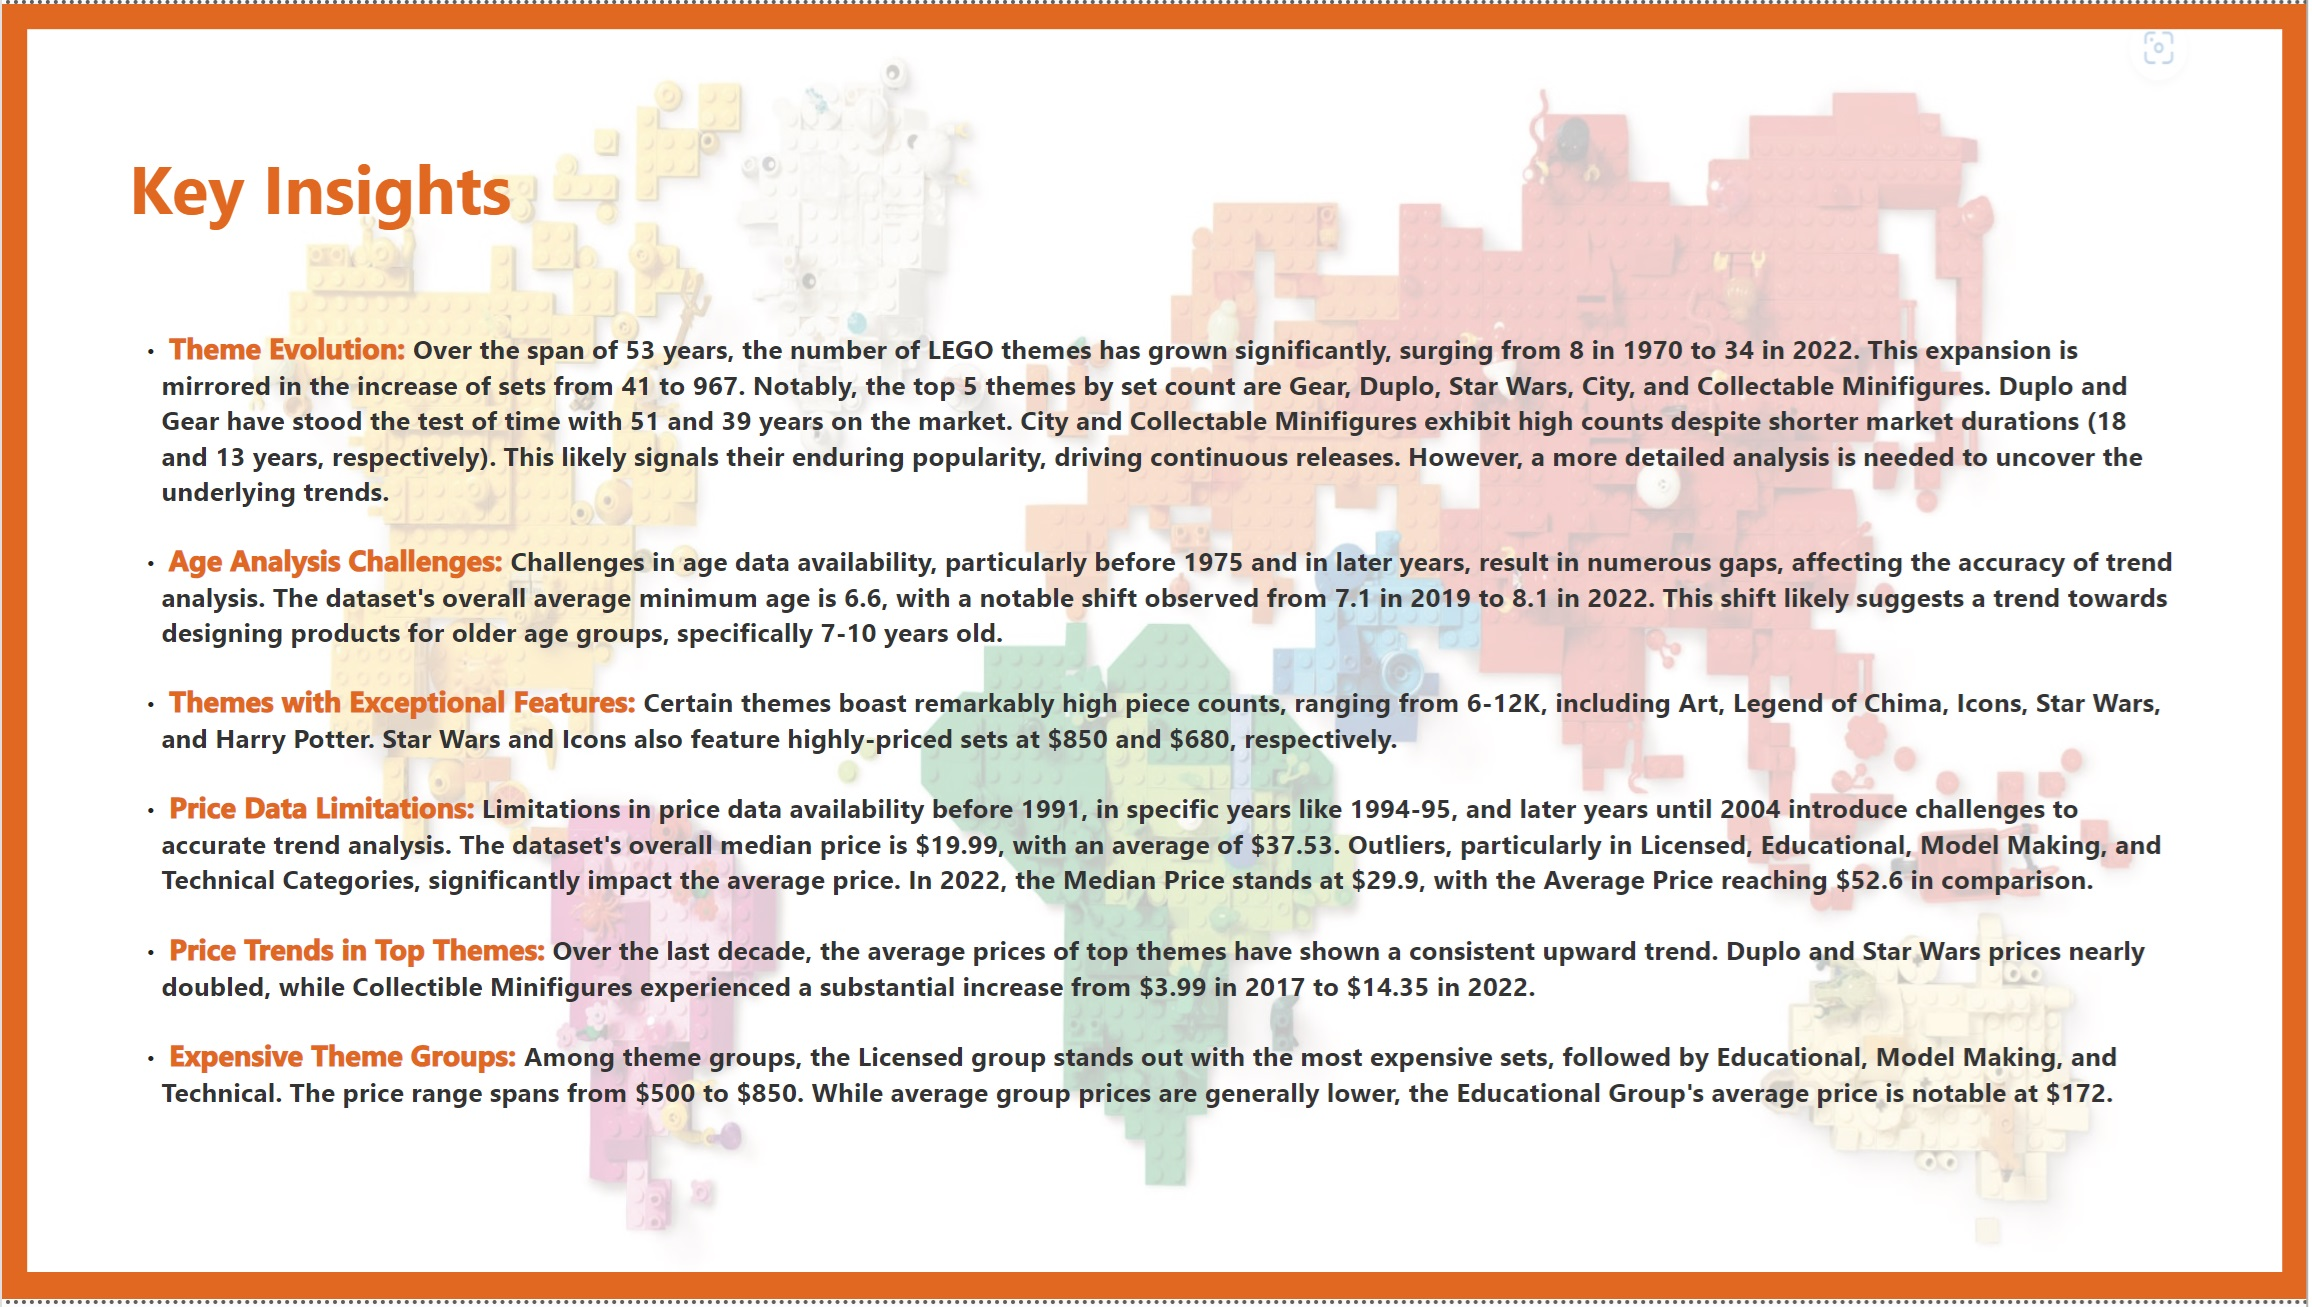

Layout of this report page (visuals, bound fields, positions):
{"tool":"powerbi","page":{"name":"Insights","canvas":[1280,720],"ordinal":2},"visuals":[{"type":"textbox","box":[65.5,139.1,1149.4,510.3],"z":0},{"type":"textbox","box":[65.6,71.1,388.9,75.6],"z":1000},{"type":"shape","box":[1266.7,0,13.8,712.6],"z":2000},{"type":"shape","box":[0,0,1280.5,14],"z":3000},{"type":"shape","box":[0,704.6,1280.5,14.9],"z":4000},{"type":"shape","box":[0,0,14,712.6],"z":5000}]}

Visuals, with their boxes in screenshot pixels (x1, y1, x2, y2), scaled from the page's 1280x720 canvas onto the 2312x1307 screenshot:
textbox: (118,253,2194,1179)
textbox: (118,129,821,266)
shape: (2288,0,2311,1294)
shape: (0,0,2311,25)
shape: (0,1279,2311,1306)
shape: (0,0,25,1294)
